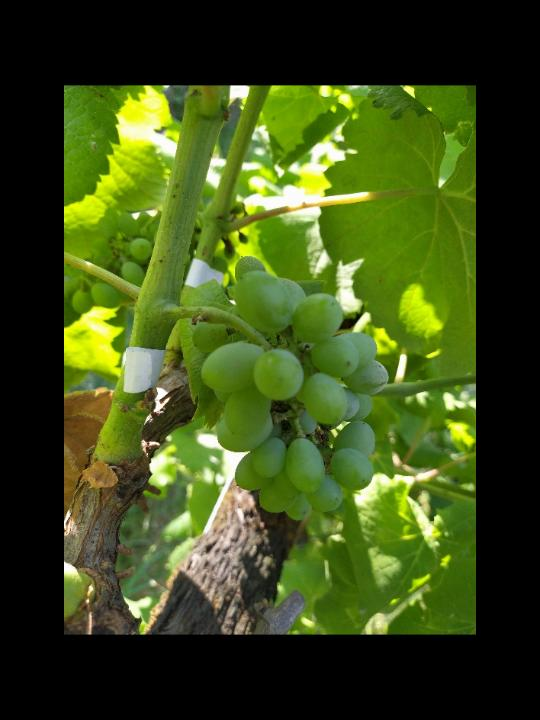grape: (191, 254, 391, 526)
